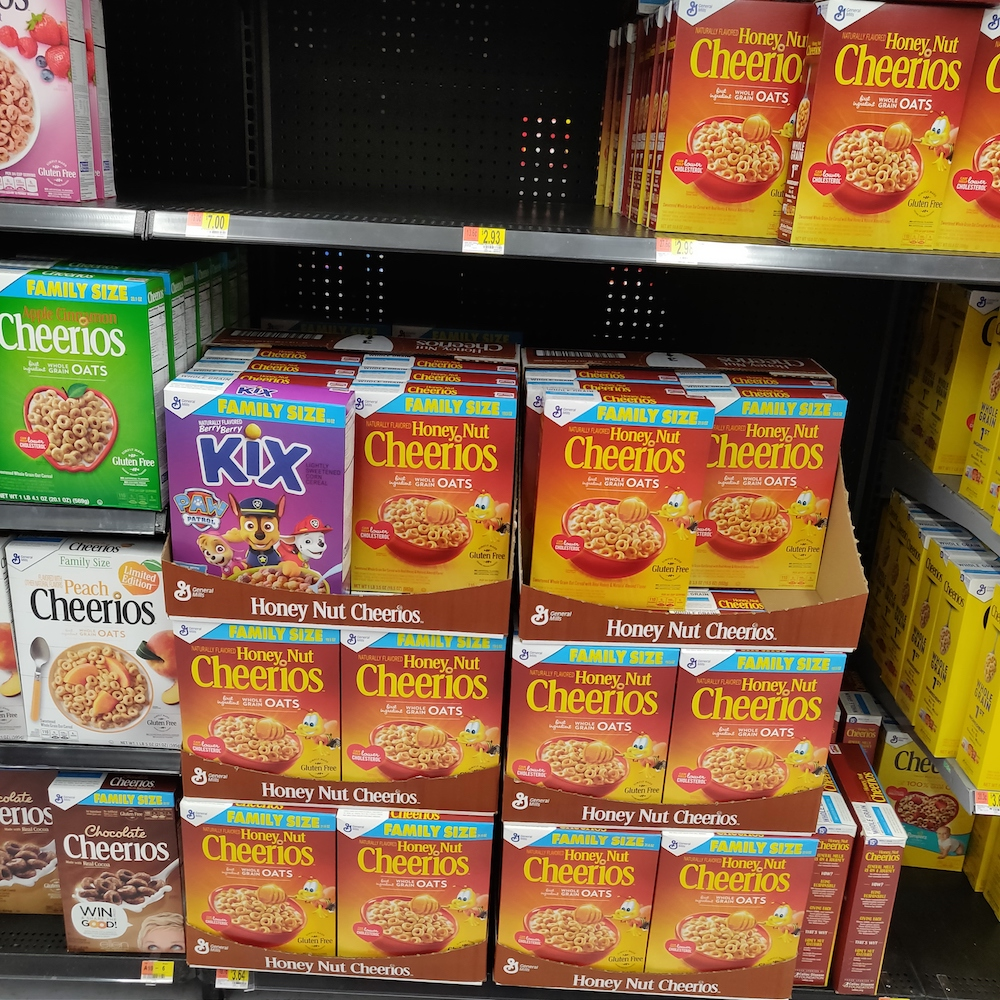Kix Berry -568919964: (167, 402, 355, 600)
